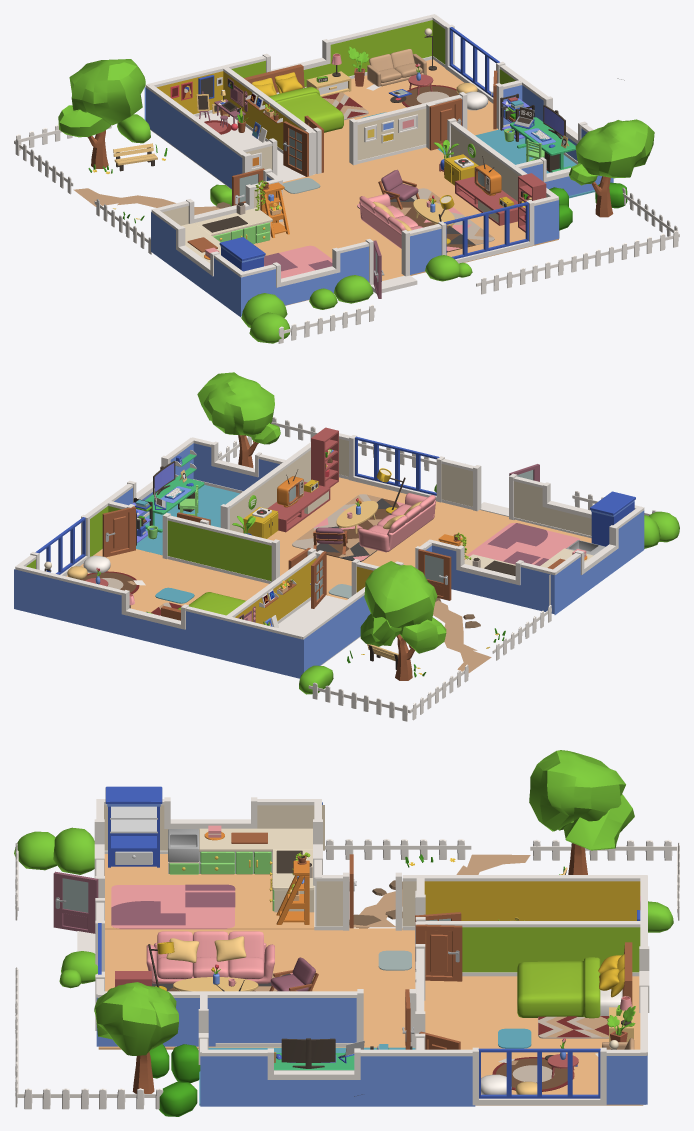
Rendered from WebRoom1.gltf.
3 views of the same model, one above another, from view 1: azimuth 30°, elevation 25°; view 2: azimuth 150°, elevation 25°; view 3: azimuth 270°, elevation 25° (orthographic). The views are drawn at different scales.
Parts seen in each view (by area): view 1: Merged Geometry 4, Cube 2.008, Merged Geometry 5, Merged Geometry.035, Merged Geometry 3.001, wall.001, Cube 2.011, Cube 92.001, Cube 2.012, Merged Geometry 3.002, Merged Geometry.034, Merged Geometry 2.006 (+38 smaller); view 2: Merged Geometry 4, Merged Geometry 5, Cube 2.008, Merged Geometry 3.001, Cube 92.001, Merged Geometry.035, wall.001, Cube 2.011, Cube 2.012, wall, Merged Geometry.034, Merged Geometry 2.006 (+29 smaller); view 3: Merged Geometry 4, Cube 2.008, Merged Geometry 5, Cube 92.001, Merged Geometry 2.006, wall.001, wall, Merged Geometry.035, Cube 2.011, Cube.009, Cube 2.012, Cube 64.001 (+42 smaller).
Part boxes in pixels (left/top/right/bottom): Merged Geometry 4: left=144, top=87, right=613, bottom=317; Cube 2.008: left=282, top=147, right=558, bottom=280; Merged Geometry 5: left=145, top=14, right=593, bottom=277; Merged Geometry.035: left=176, top=24, right=587, bottom=287; Merged Geometry 3.001: left=162, top=108, right=547, bottom=225; wall.001: left=231, top=20, right=515, bottom=86; Cube 2.011: left=69, top=59, right=145, bottom=125; Cube 92.001: left=315, top=59, right=498, bottom=174; Cube 2.012: left=575, top=119, right=654, bottom=178; Merged Geometry 3.002: left=241, top=275, right=373, bottom=343; Merged Geometry.034: left=242, top=83, right=503, bottom=284; Merged Geometry 2.006: left=157, top=71, right=302, bottom=150; Merged Geometry 4: left=14, top=510, right=644, bottom=678; Merged Geometry 5: left=15, top=433, right=644, bottom=639; Cube 2.008: left=267, top=477, right=513, bottom=599; Merged Geometry 3.001: left=230, top=438, right=591, bottom=605; Cube 92.001: left=66, top=549, right=268, bottom=612; Merged Geometry.035: left=30, top=435, right=618, bottom=629; wall.001: left=26, top=506, right=271, bottom=581; Cube 2.011: left=364, top=561, right=437, bottom=627; Cube 2.012: left=197, top=372, right=274, bottom=436; wall: left=107, top=443, right=279, bottom=516; Merged Geometry.034: left=126, top=465, right=517, bottom=595; Merged Geometry 2.006: left=235, top=558, right=373, bottom=624; Merged Geometry 4: left=96, top=802, right=647, bottom=1106; Cube 2.008: left=98, top=928, right=415, bottom=1049; Merged Geometry 5: left=96, top=799, right=647, bottom=1104; Cube 92.001: left=424, top=976, right=643, bottom=1105; Merged Geometry 2.006: left=424, top=881, right=640, bottom=920; wall.001: left=462, top=927, right=640, bottom=972; wall: left=207, top=998, right=356, bottom=1046; Merged Geometry.035: left=94, top=797, right=649, bottom=1105; Cube 2.011: left=529, top=750, right=625, bottom=831; Cube.009: left=104, top=854, right=314, bottom=929; Cube 2.012: left=94, top=982, right=178, bottom=1055; Cube 64.001: left=517, top=957, right=600, bottom=1018.
Size of what is drawn, in the model's own units: 63.71 by 14.15 by 58.68.
Materials: 36 (1 with a texture image).
